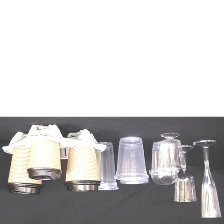glass: (190, 137, 223, 221), (5, 139, 44, 196), (63, 140, 103, 195), (28, 131, 64, 188), (88, 136, 122, 194), (111, 134, 149, 181), (145, 138, 181, 187), (170, 139, 195, 205), (154, 127, 187, 172)
